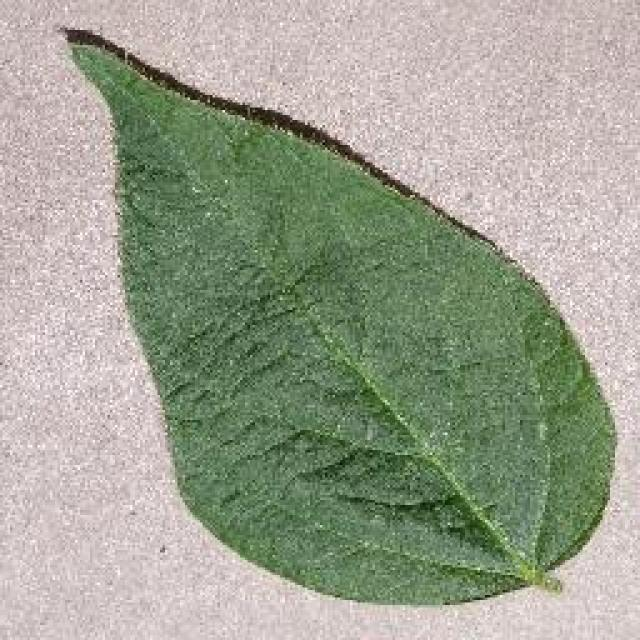Soy_healthy: (109, 111, 598, 538)
